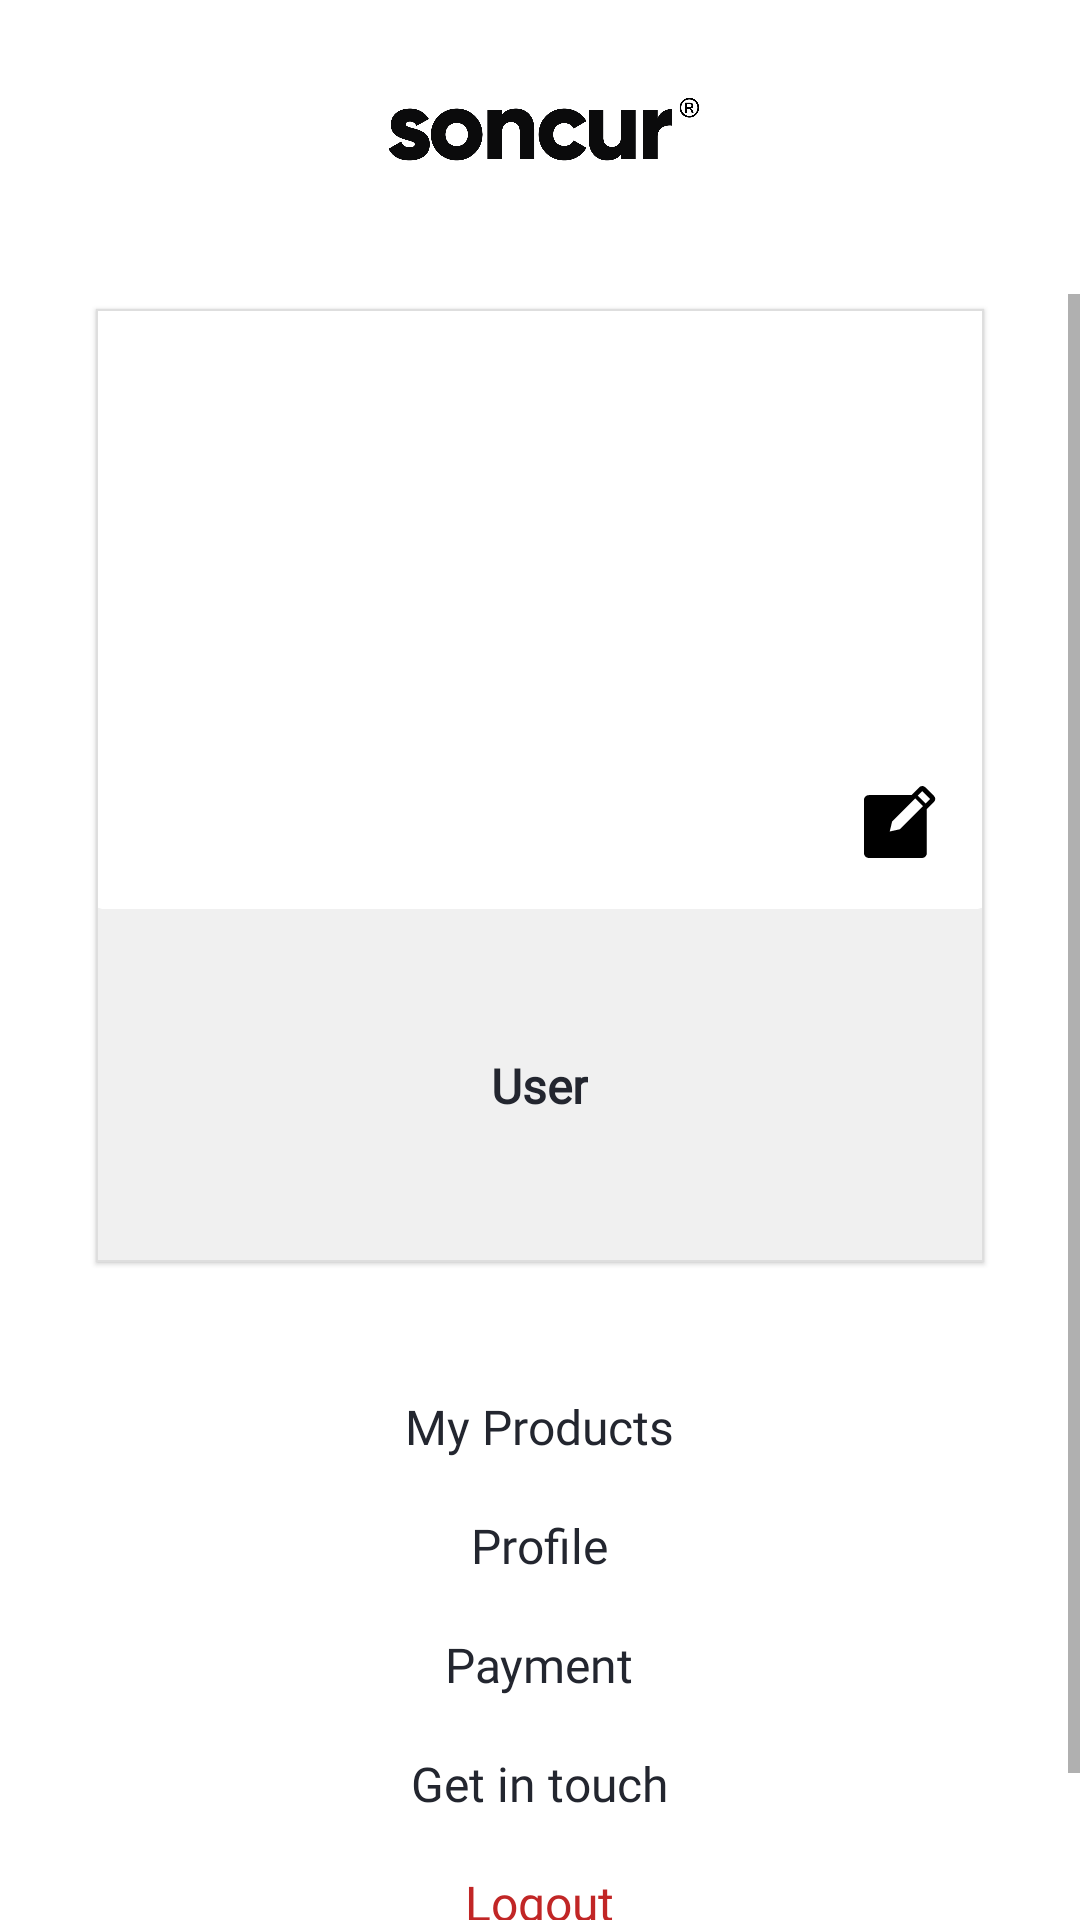

Icon bounding boxes for this 1080px x 1920px phone screenshot, format bbox(x1, y1, x2, y2):
edit profile: bbox(864, 786, 936, 858)
